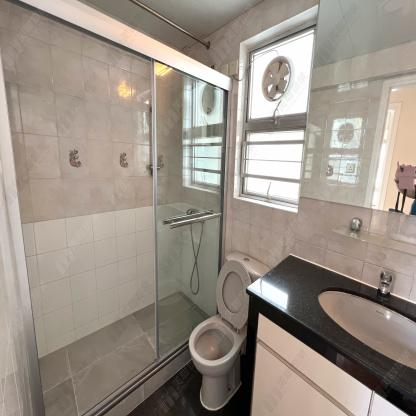Exhaust Fan: (258, 42, 298, 110)
Faucet: (378, 265, 393, 297)
Toilet: (188, 249, 272, 406)
Toilet Sink: (282, 266, 416, 396)
Water Cubicle: (1, 1, 231, 416)
